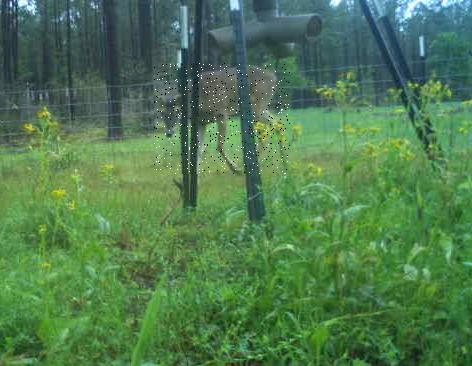Deer: (155, 64, 291, 175)
